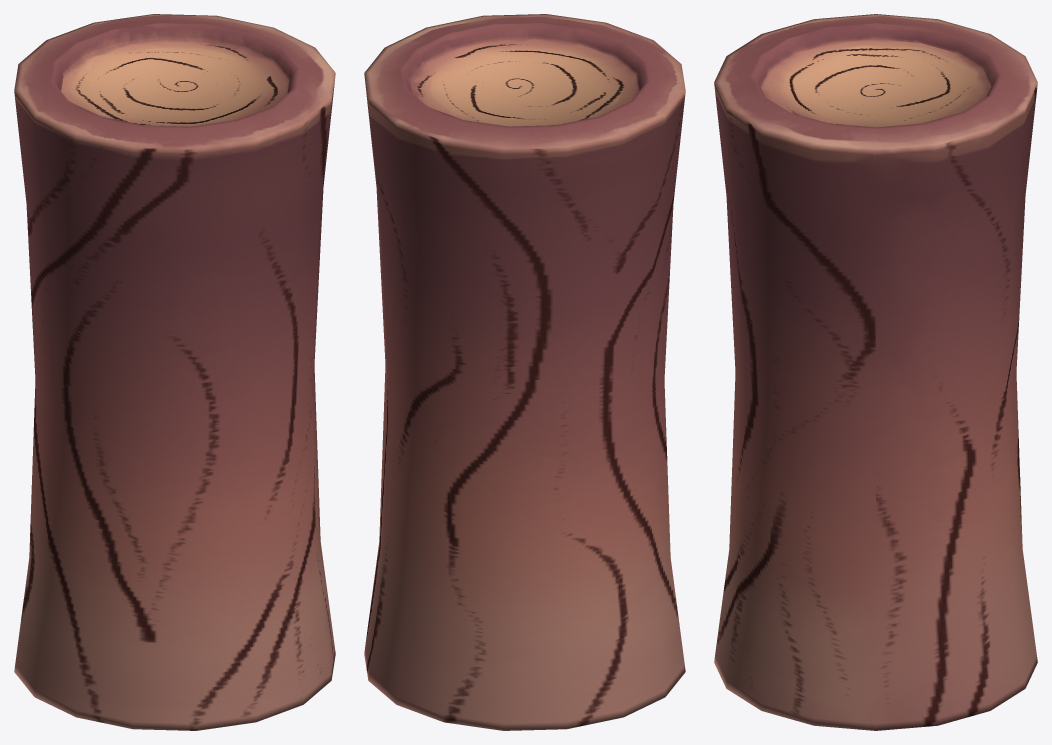
Rendered from obj_Log.fbx.
The picture shows the model from 3 angles, left to right: view 1: azimuth 30°, elevation 25°; view 2: azimuth 150°, elevation 25°; view 3: azimuth 270°, elevation 25°; orthographic projection.
Parts seen in each view (by area): view 1: Log; view 2: Log; view 3: Log.
Boxes of the visible parts, <box> form: Log: <box>14,14,335,730</box>; Log: <box>364,14,685,730</box>; Log: <box>714,14,1037,730</box>.
Bounding box in the file's own units: 20 × 40 × 20.
